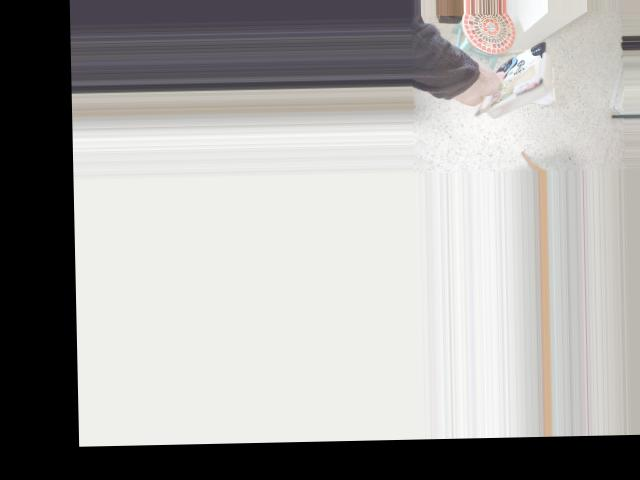cheese: (454, 28, 557, 128)
